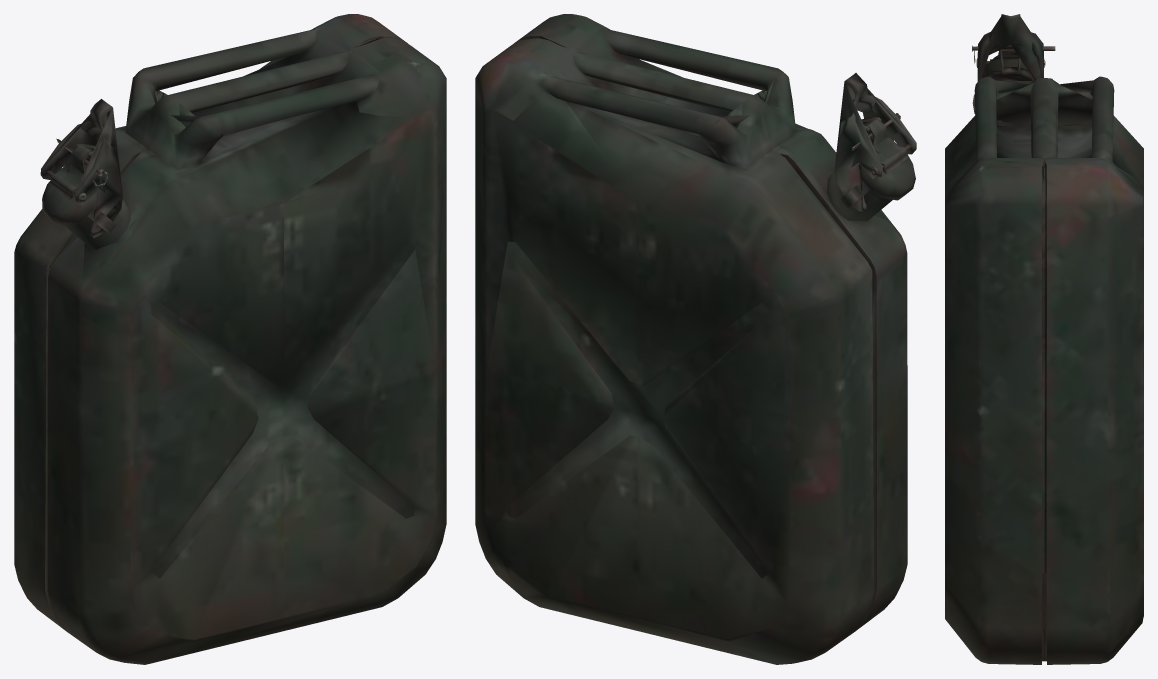
Rendered from metal_jerrycan_green.glb.
The picture shows the model from 3 angles, left to right: view 1: azimuth 30°, elevation 25°; view 2: azimuth 150°, elevation 25°; view 3: azimuth 270°, elevation 25°; orthographic projection. The views are drawn at different scales.
Visible parts, largest first — view 1: metal_jerrycan_green_pin, metal_jerrycan_green_pin_lo; view 2: metal_jerrycan_green_pin, metal_jerrycan_green_pin_lo; view 3: metal_jerrycan_green_pin, metal_jerrycan_green_pin_lo.
Part boxes in pixels (x1=…): metal_jerrycan_green_pin: x1=14, y1=14, x2=446, y2=664; metal_jerrycan_green_pin_lo: x1=41, y1=30, x2=414, y2=632; metal_jerrycan_green_pin: x1=475, y1=14, x2=916, y2=664; metal_jerrycan_green_pin_lo: x1=493, y1=28, x2=916, y2=631; metal_jerrycan_green_pin: x1=945, y1=14, x2=1143, y2=664; metal_jerrycan_green_pin_lo: x1=945, y1=16, x2=1143, y2=661.
Size of the model in its own units: 0.36 by 0.4998 by 0.1709.
Materials: 1 (1 with a texture image).
